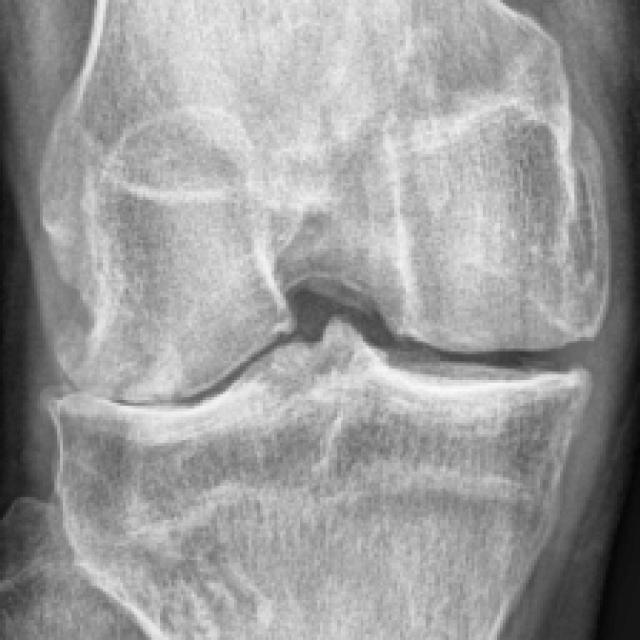femur: (41, 0, 611, 402)
tibia: (50, 322, 590, 640)
